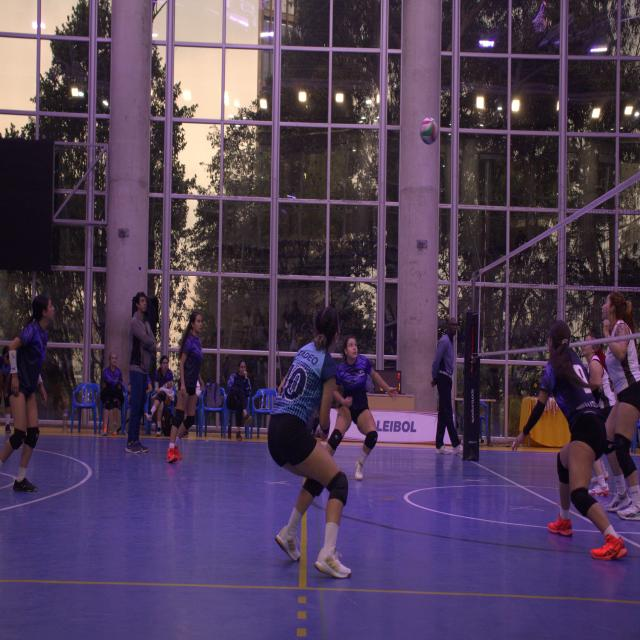volleyball: (420, 117, 438, 145)
